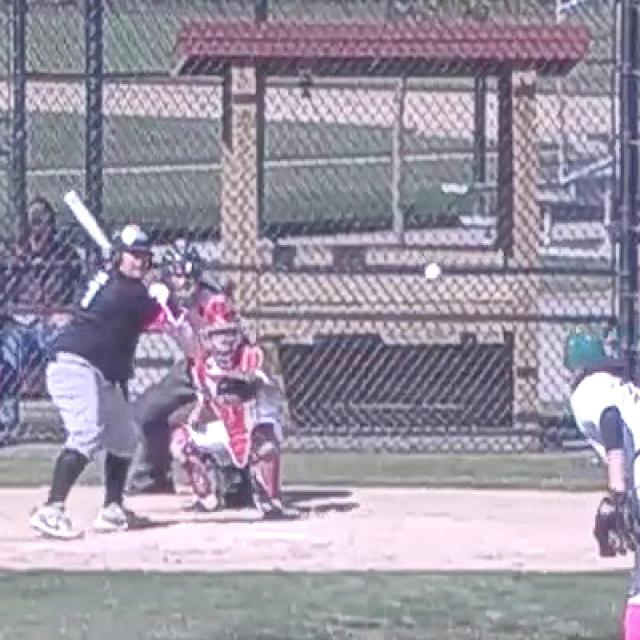baseball: (426, 264, 441, 280)
